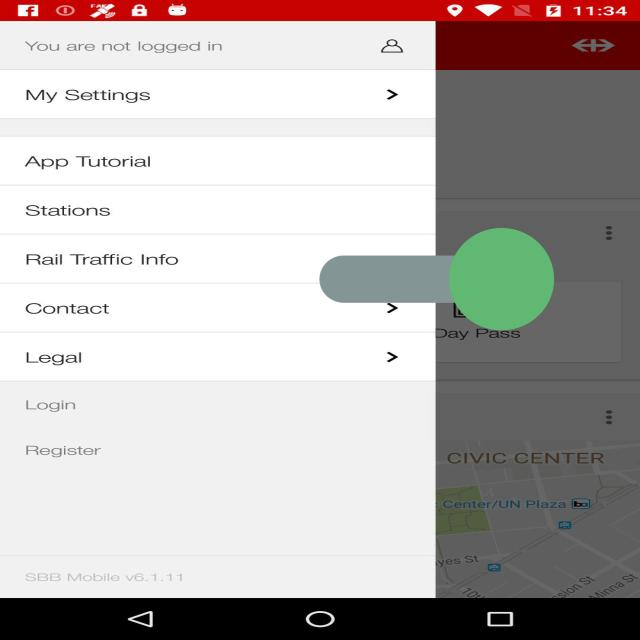social proof: (319, 165, 554, 393)
